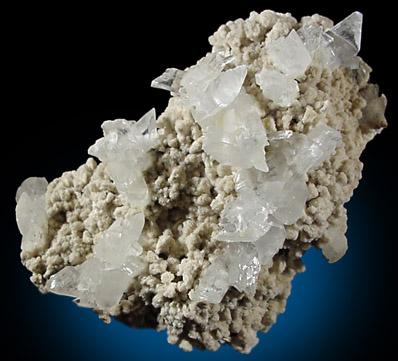gypsum: (170, 52, 342, 304), (46, 110, 157, 315), (256, 29, 314, 106), (316, 16, 361, 70), (16, 180, 46, 253)
